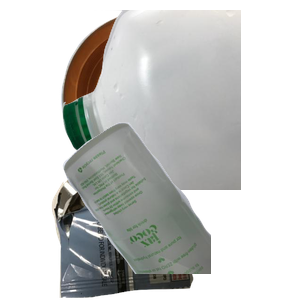glass: (60, 120, 300, 300)
metal: (58, 10, 289, 186)
plastic: (60, 10, 300, 190)
trash: (49, 130, 235, 300)
